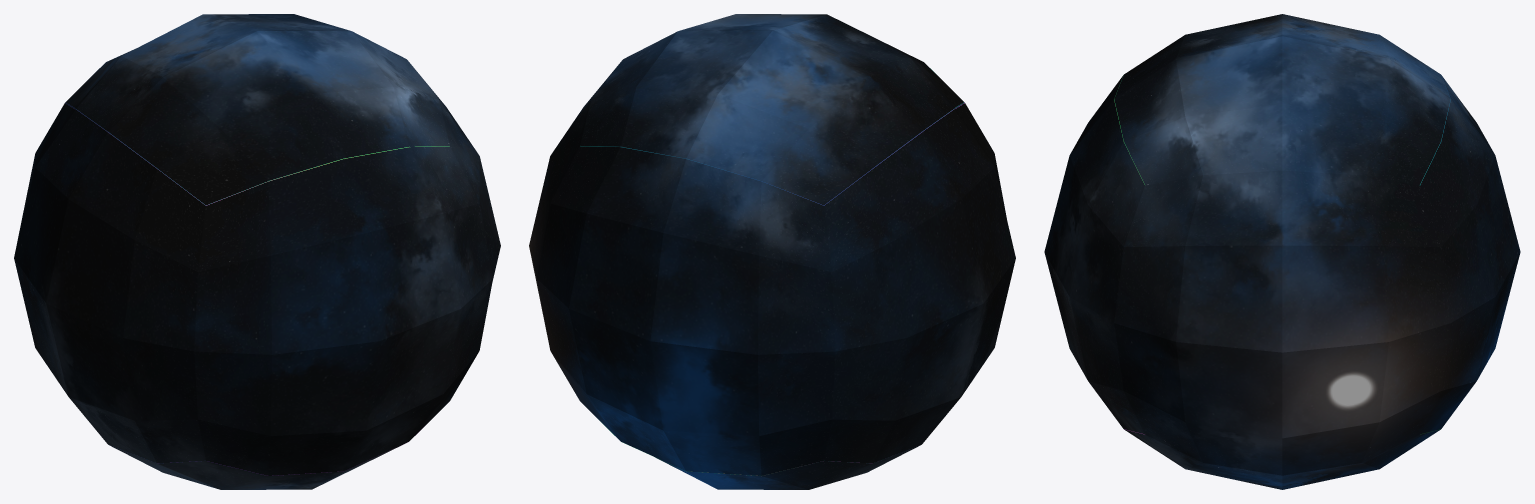
The model's file is skybox_night_02.obj.
The picture shows the model from 3 angles, left to right: view 1: azimuth 30°, elevation 25°; view 2: azimuth 150°, elevation 25°; view 3: azimuth 270°, elevation 25°; orthographic projection. The views are drawn at different scales.
Parts seen in each view (by area): view 1: Cube; view 2: Cube; view 3: Cube.
Boxes of the visible parts, x1,y1,x2,y2 form: Cube: (14,14,500,489); Cube: (529,14,1015,489); Cube: (1044,14,1520,489).
Bounding box in the file's own units: 2.63 × 2.63 × 2.63.
1 material, 1 textured.
